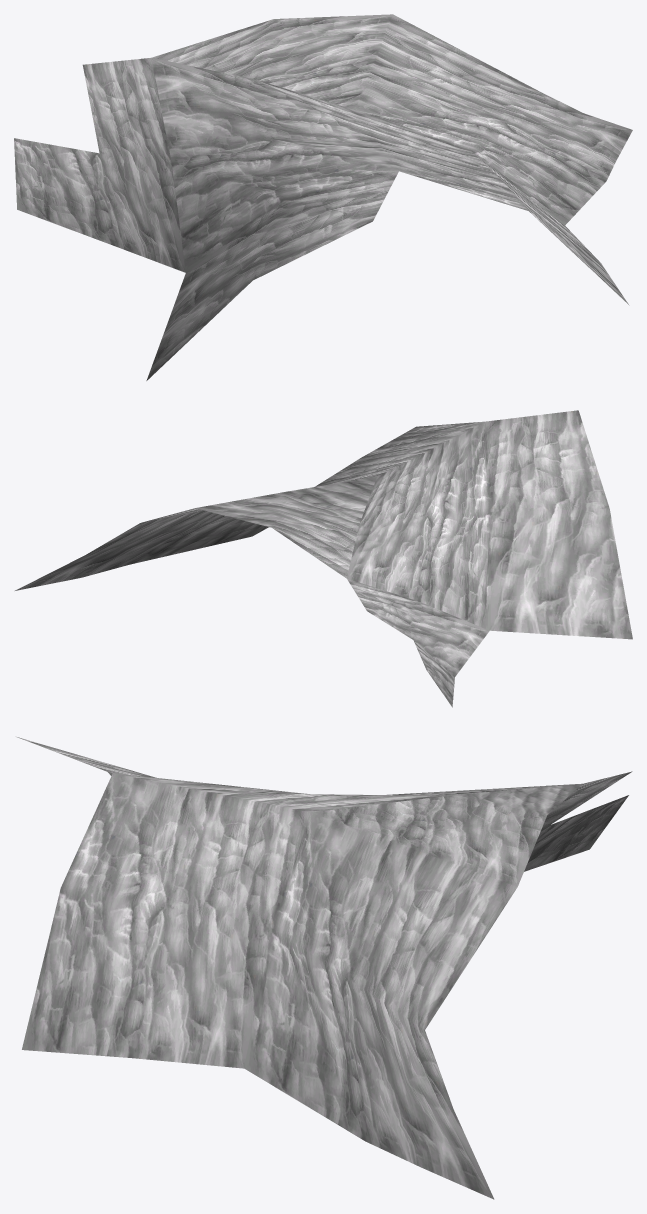
File: SWORDLIGHT20_PS-AREA03_54.fbx
3 renders of one model, top to bottom at view 1: azimuth 30°, elevation 25°; view 2: azimuth 150°, elevation 25°; view 3: azimuth 270°, elevation 25°, orthographic. The views are drawn at different scales.
Visible parts, largest first — view 1: SWORDLIGHT20_PS-AREA03_54; view 2: SWORDLIGHT20_PS-AREA03_54; view 3: SWORDLIGHT20_PS-AREA03_54.
Part boxes in pixels (left/top/right/bottom): SWORDLIGHT20_PS-AREA03_54: left=14, top=14, right=632, bottom=380; SWORDLIGHT20_PS-AREA03_54: left=15, top=410, right=632, bottom=707; SWORDLIGHT20_PS-AREA03_54: left=17, top=737, right=632, bottom=1199.
Bounding box in the file's own units: 244407 × 69656 × 187110.
Materials: 1 (1 with a texture image).
